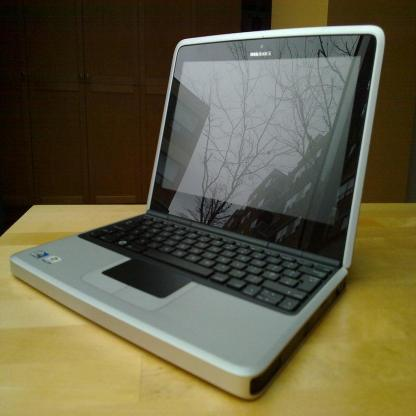board: (9, 25, 386, 402)
